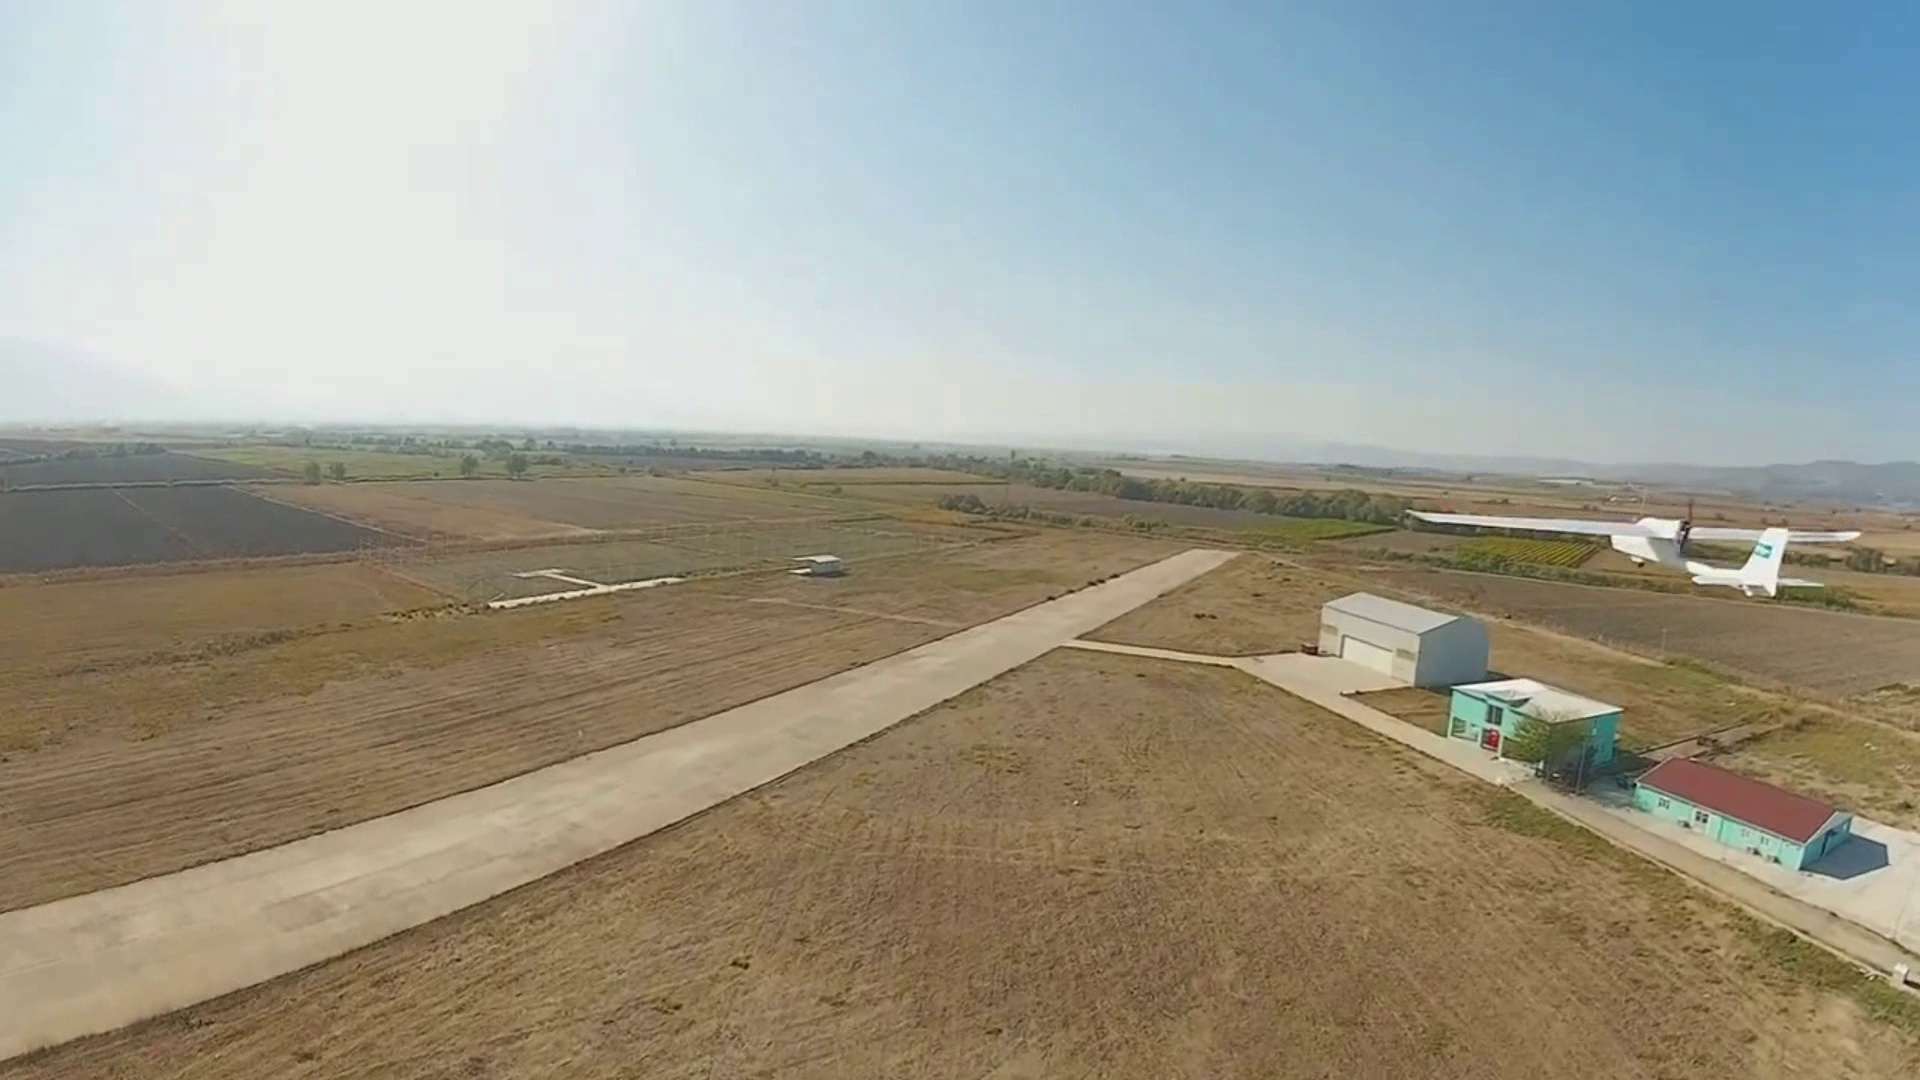airplane: (1614, 517, 1787, 597)
